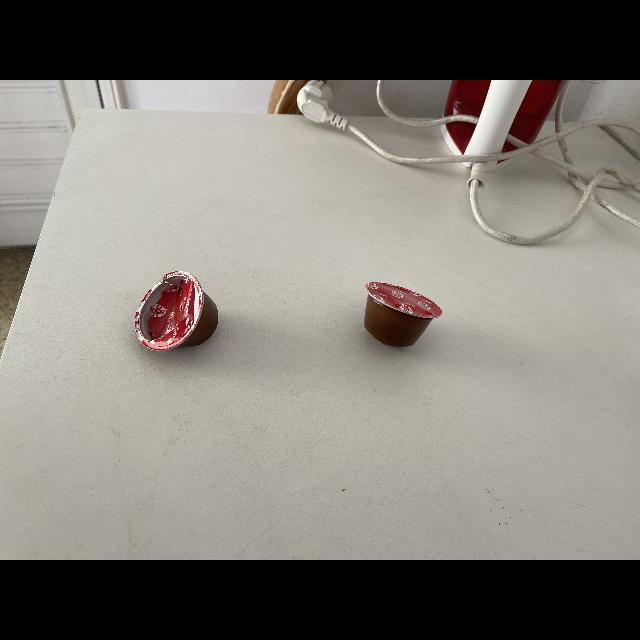damaged_capsule: (124, 270, 224, 358)
intact_capsule: (357, 274, 455, 356)
